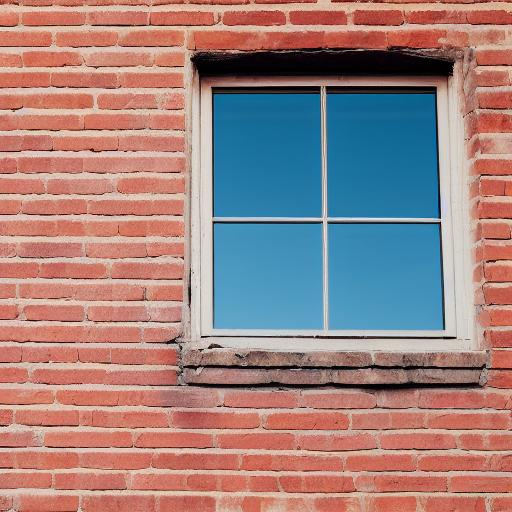Window: (181, 44, 492, 395)
